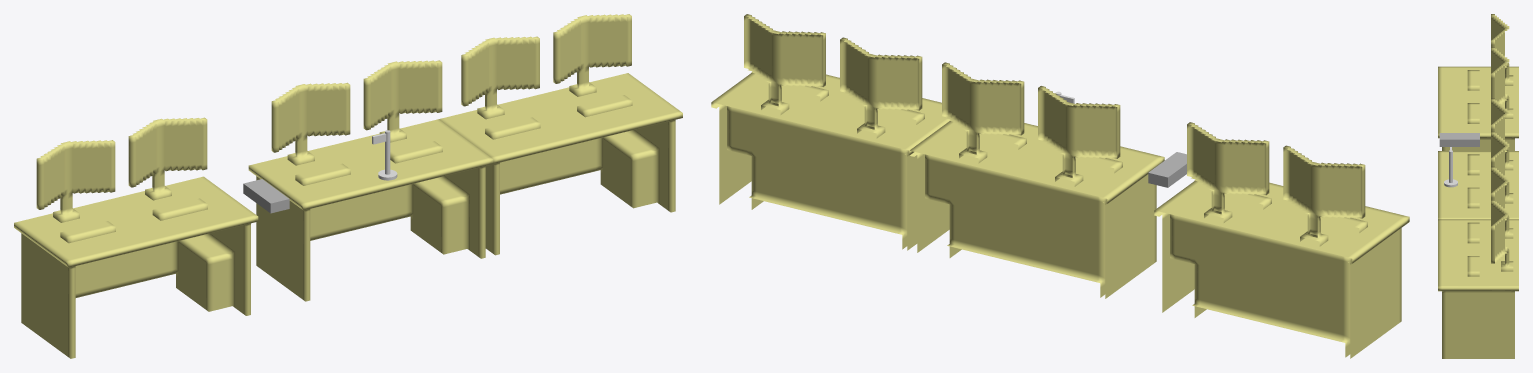
Rendered from Sketchbook_Level.fbx.
3 renders of one model, left to right at view 1: azimuth 30°, elevation 25°; view 2: azimuth 150°, elevation 25°; view 3: azimuth 270°, elevation 25°, orthographic. The views are drawn at different scales.
Parts seen in each view (by area): view 1: WideDesk2, WideDesk3, WideDesk4, Monitor4, Monitor2, Monitor, Monitor6, Monitor5, Monitor3, CubeGridToolOutput, Keyboard5, Keyboard (+4 smaller); view 2: WideDesk2, WideDesk3, WideDesk4, Monitor2, Monitor, Monitor6, Monitor3, Monitor4, Monitor5, CubeGridToolOutput; view 3: WideDesk4, WideDesk2, WideDesk3, Monitor5, Monitor2, Monitor3, Monitor4, Monitor6, Monitor, CubeGridToolOutput, Keyboard3, Keyboard4 (+6 smaller).
Boxes of the visible parts, x1=… form: WideDesk2: x1=14, y1=176, x2=258, y2=358; WideDesk3: x1=248, y1=119, x2=493, y2=301; WideDesk4: x1=439, y1=73, x2=682, y2=255; Monitor4: x1=271, y1=82, x2=350, y2=165; Monitor2: x1=128, y1=117, x2=207, y2=200; Monitor: x1=36, y1=140, x2=115, y2=222; Monitor6: x1=461, y1=36, x2=539, y2=119; Monitor5: x1=553, y1=14, x2=631, y2=96; Monitor3: x1=363, y1=60, x2=442, y2=142; CubeGridToolOutput: x1=243, y1=179, x2=289, y2=213; Keyboard5: x1=485, y1=117, x2=540, y2=139; Keyboard: x1=60, y1=221, x2=115, y2=243; WideDesk2: x1=1154, y1=180, x2=1409, y2=358; WideDesk3: x1=909, y1=121, x2=1164, y2=298; WideDesk4: x1=711, y1=72, x2=949, y2=250; Monitor2: x1=1187, y1=122, x2=1269, y2=222; Monitor: x1=1283, y1=145, x2=1365, y2=246; Monitor6: x1=840, y1=37, x2=922, y2=138; Monitor3: x1=942, y1=62, x2=1024, y2=163; Monitor4: x1=1038, y1=86, x2=1120, y2=186; Monitor5: x1=744, y1=14, x2=825, y2=114; CubeGridToolOutput: x1=1148, y1=152, x2=1186, y2=187; WideDesk4: x1=1438, y1=219, x2=1518, y2=358; WideDesk2: x1=1438, y1=66, x2=1518, y2=150; WideDesk3: x1=1438, y1=151, x2=1518, y2=219; Monitor5: x1=1491, y1=200, x2=1513, y2=271; Monitor2: x1=1491, y1=47, x2=1513, y2=118; Monitor3: x1=1491, y1=131, x2=1513, y2=203; Monitor4: x1=1491, y1=98, x2=1513, y2=170; Monitor6: x1=1491, y1=166, x2=1513, y2=238; Monitor: x1=1491, y1=14, x2=1513, y2=85; CubeGridToolOutput: x1=1439, y1=133, x2=1479, y2=146; Keyboard3: x1=1467, y1=154, x2=1479, y2=175; Keyboard4: x1=1467, y1=187, x2=1479, y2=208.
Size of what is drawn, in the model's own units: 6475 by 1000 by 1750.
